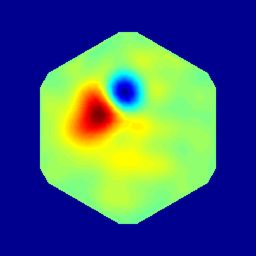ship: (109, 77, 137, 106)
wave: (77, 92, 120, 130)
